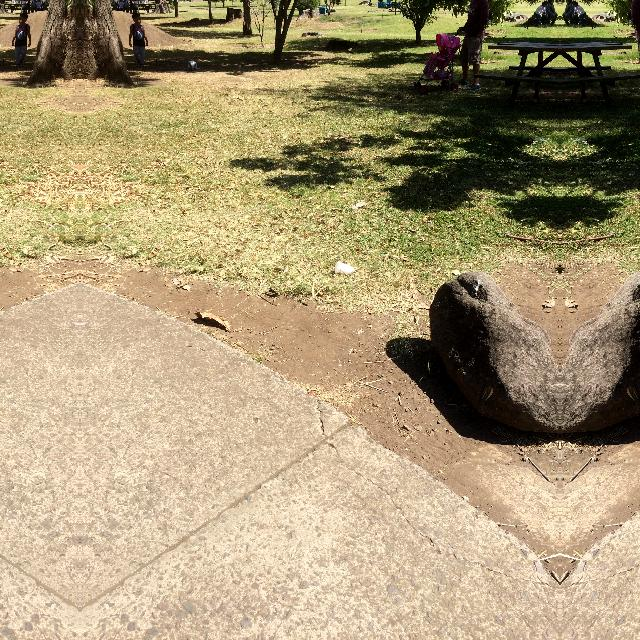Plastic: (333, 259, 357, 277)
